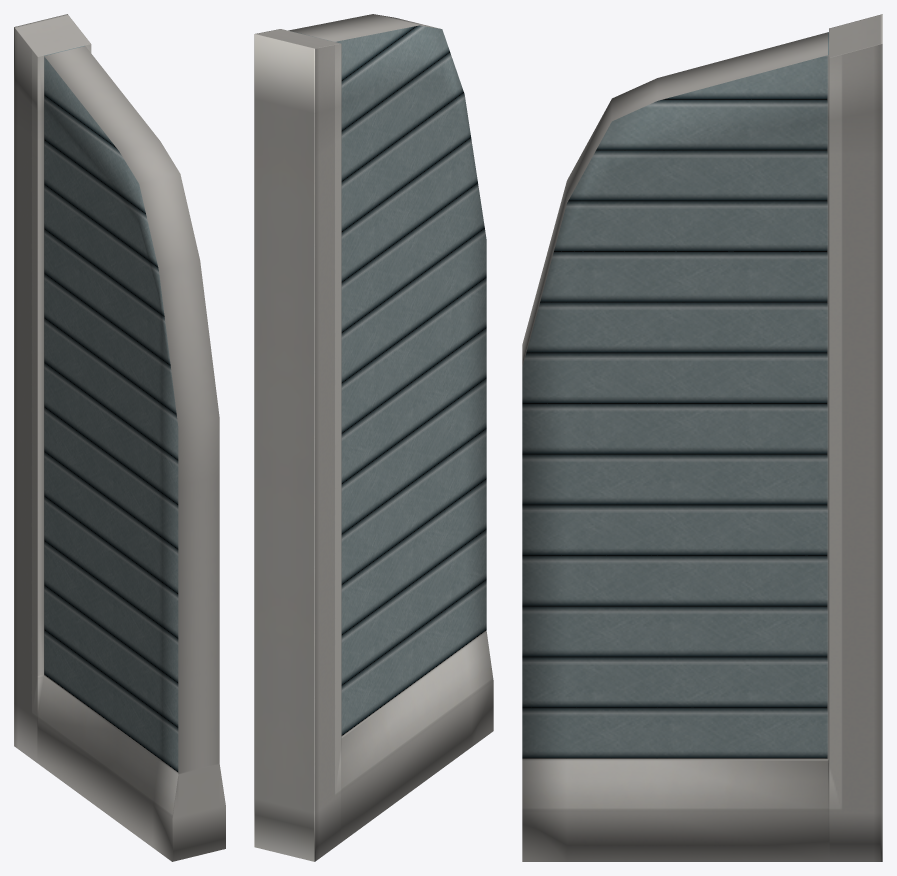
The model's file is tiles_door.glb.
The picture shows the model from 3 angles, left to right: view 1: azimuth 30°, elevation 25°; view 2: azimuth 150°, elevation 25°; view 3: azimuth 270°, elevation 25°; orthographic projection. The views are drawn at different scales.
Visible parts, largest first — view 1: Cube.004; view 2: Cube.004; view 3: Cube.004.
Part boxes in pixels (box(x1,y1,x2,y2)): Cube.004: box(14, 14, 225, 861); Cube.004: box(254, 14, 493, 861); Cube.004: box(522, 14, 882, 861).
Size of the model in its own units: 0.26 by 3.33 by 1.33.
1 material, 1 textured.
